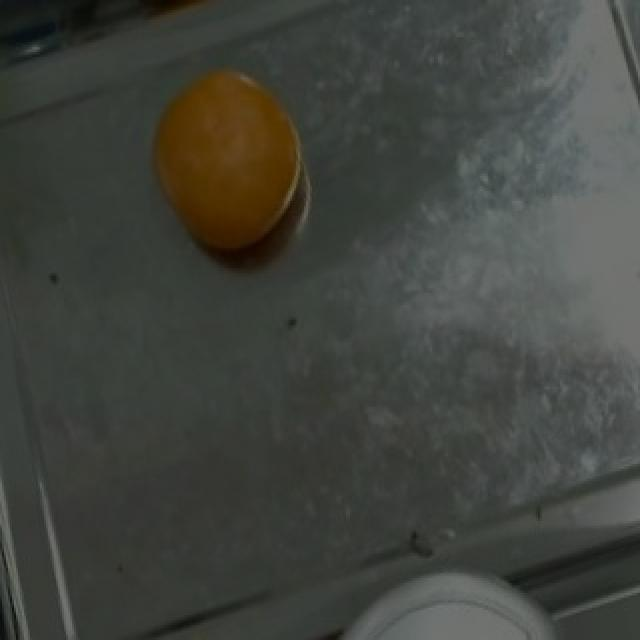Fruit: (132, 49, 322, 270), (346, 588, 560, 640)
